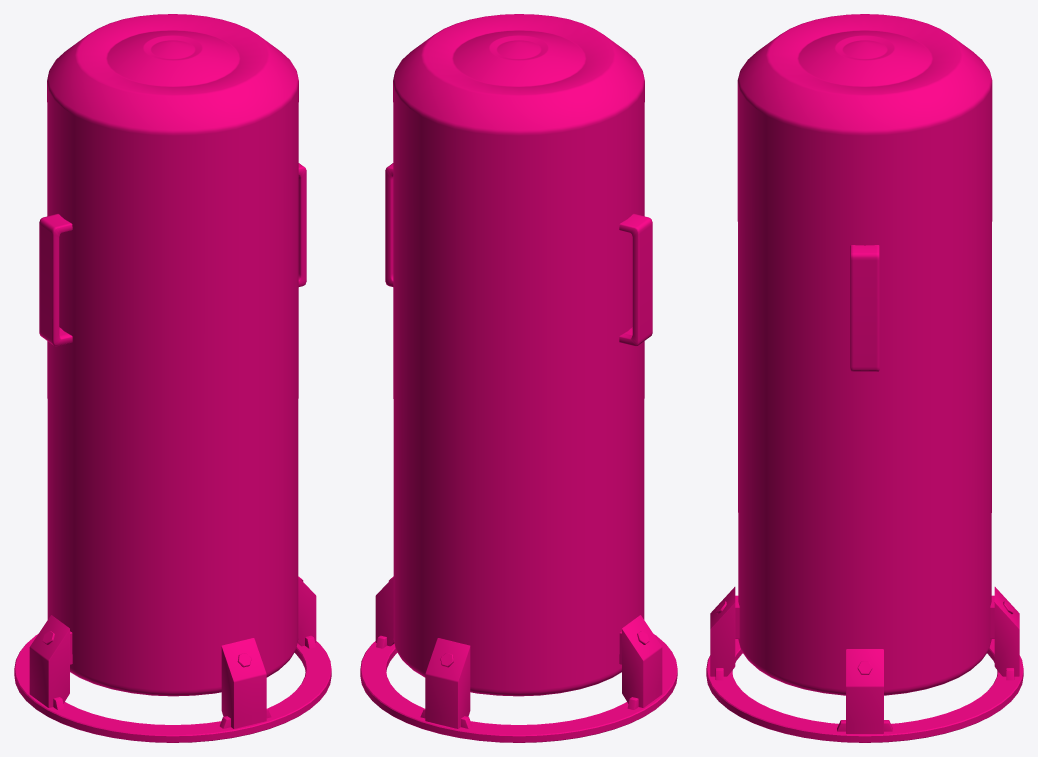
The model's file is Barrel01.FBX.
3 renders of one model, left to right at view 1: azimuth 30°, elevation 25°; view 2: azimuth 150°, elevation 25°; view 3: azimuth 270°, elevation 25°, orthographic.
Parts seen in each view (by area): view 1: SM_Barrel01; view 2: SM_Barrel01; view 3: SM_Barrel01.
Part boxes in pixels (x1=…): SM_Barrel01: x1=14, y1=14, x2=331, y2=742; SM_Barrel01: x1=360, y1=14, x2=677, y2=742; SM_Barrel01: x1=706, y1=14, x2=1023, y2=742.
Size of the model in its own units: 30.42 by 67.06 by 30.42.
